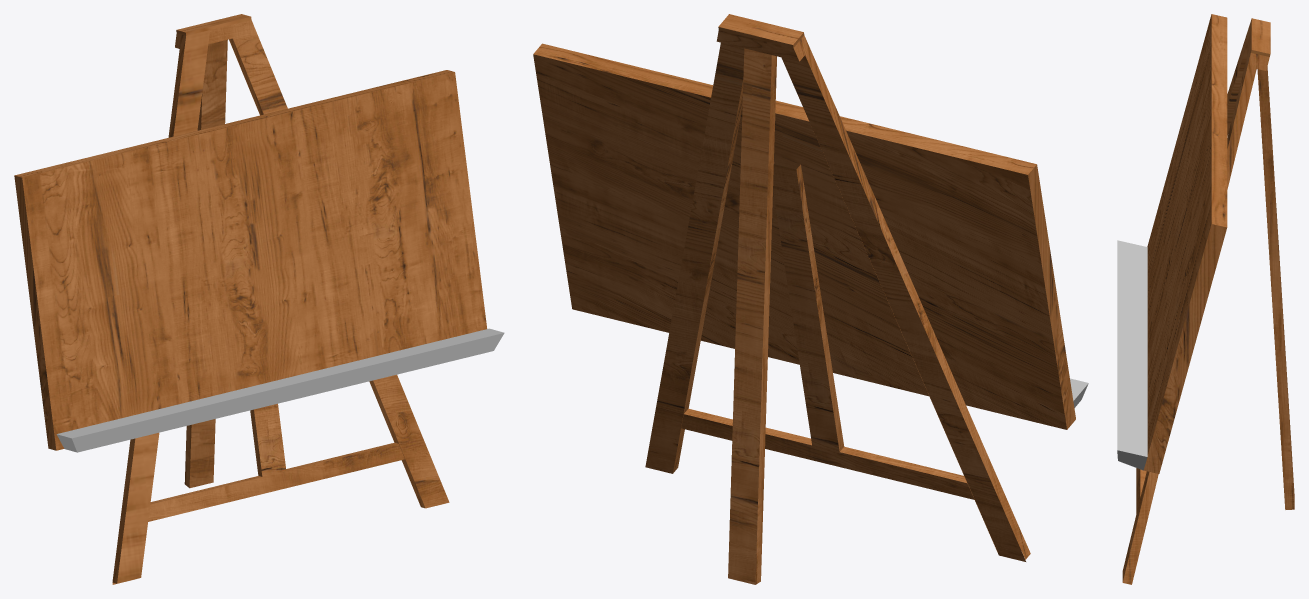
File: доска1.fbx
3 renders of one model, left to right at view 1: azimuth 30°, elevation 25°; view 2: azimuth 150°, elevation 25°; view 3: azimuth 270°, elevation 25°, orthographic. The views are drawn at different scales.
Parts seen in each view (by area): view 1: 2bf4d92a-f66f-47bb-9ecf-02e8a54a8606; view 2: 2bf4d92a-f66f-47bb-9ecf-02e8a54a8606; view 3: 2bf4d92a-f66f-47bb-9ecf-02e8a54a8606.
Boxes of the visible parts, left/top/right/bottom form: 2bf4d92a-f66f-47bb-9ecf-02e8a54a8606: left=14, top=14, right=504, bottom=584; 2bf4d92a-f66f-47bb-9ecf-02e8a54a8606: left=533, top=14, right=1088, bottom=584; 2bf4d92a-f66f-47bb-9ecf-02e8a54a8606: left=1117, top=14, right=1294, bottom=584.
Size of the model in its own units: 224 by 234 by 79.6.
